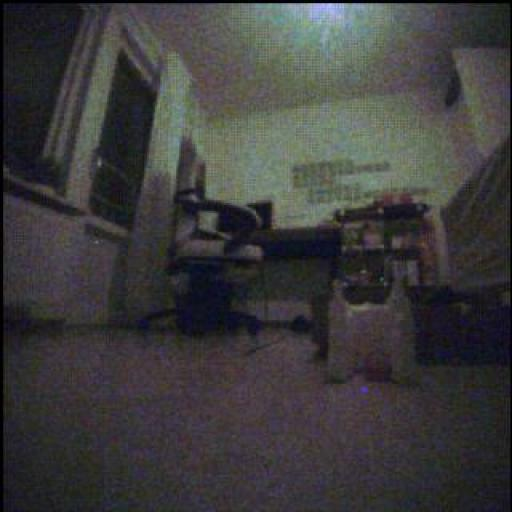basket: (367, 347, 396, 389)
